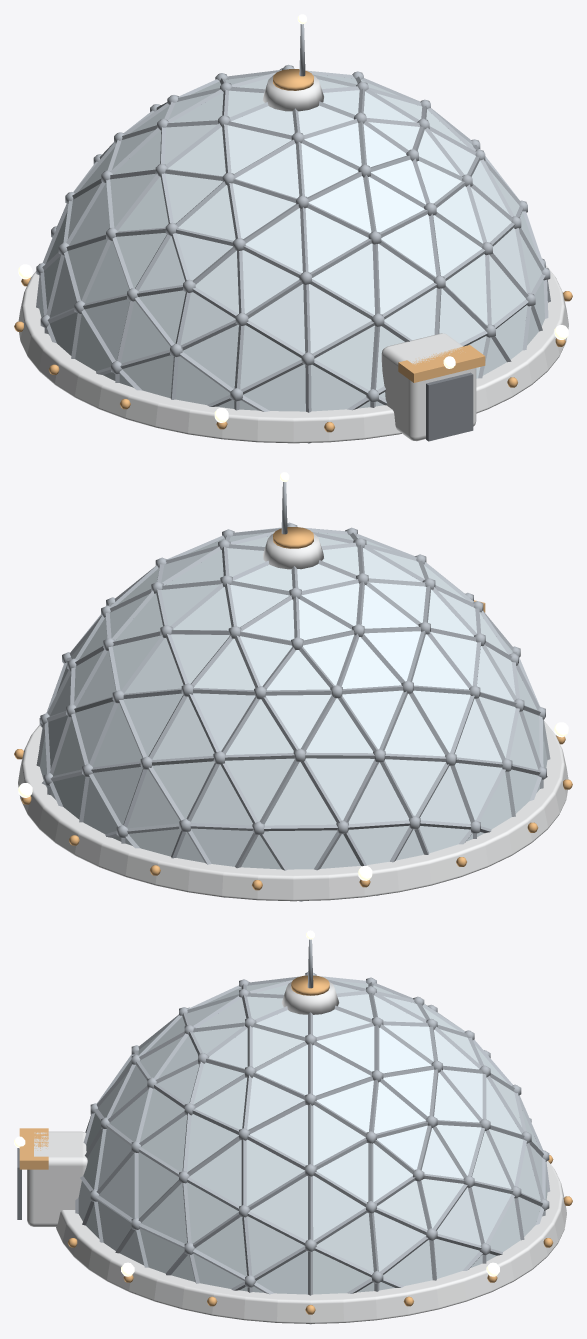
File: dome.glb
3 views of the same model, one above another, from view 1: azimuth 30°, elevation 25°; view 2: azimuth 150°, elevation 25°; view 3: azimuth 270°, elevation 25° (orthographic). The views are drawn at different scales.
Parts seen in each view (by area): view 1: glass, domeFrame; view 2: glass, domeFrame; view 3: glass, domeFrame.
Boxes of the visible parts, x1=… form: glass: x1=39, y1=74, x2=544, y2=411; domeFrame: x1=14, y1=14, x2=572, y2=443; glass: x1=39, y1=532, x2=547, y2=869; domeFrame: x1=14, y1=472, x2=572, y2=901; glass: x1=78, y1=980, x2=547, y2=1294; domeFrame: x1=14, y1=930, x2=572, y2=1324.
Size of what is drawn, in the model's own units: 2.18 by 1.36 by 2.33.
